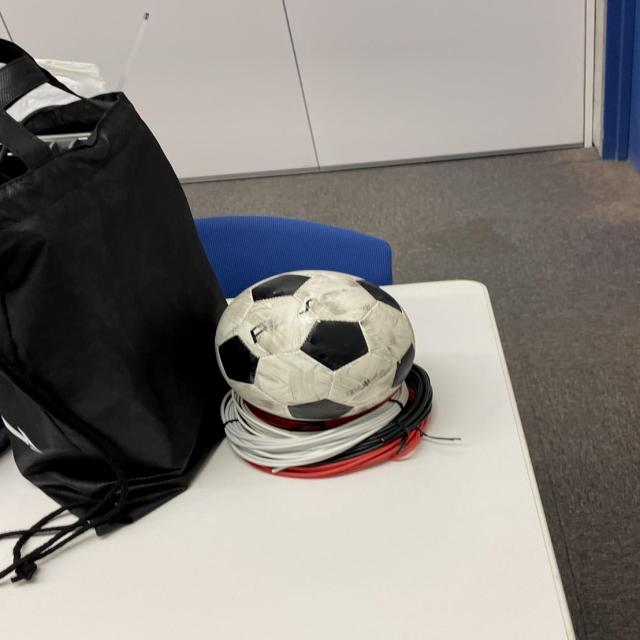Soccer Ball: (212, 270, 414, 428)
